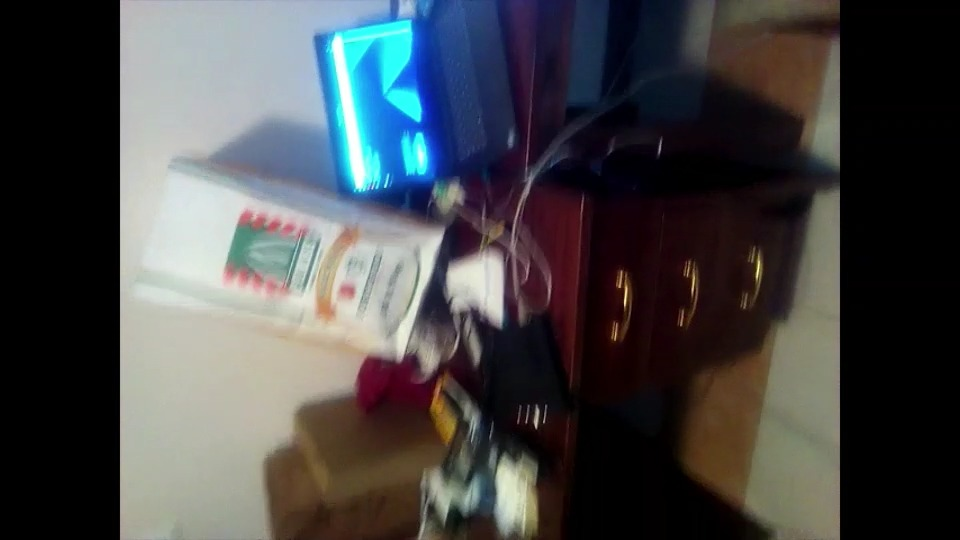maize_flour_green_label: (149, 154, 454, 370)
